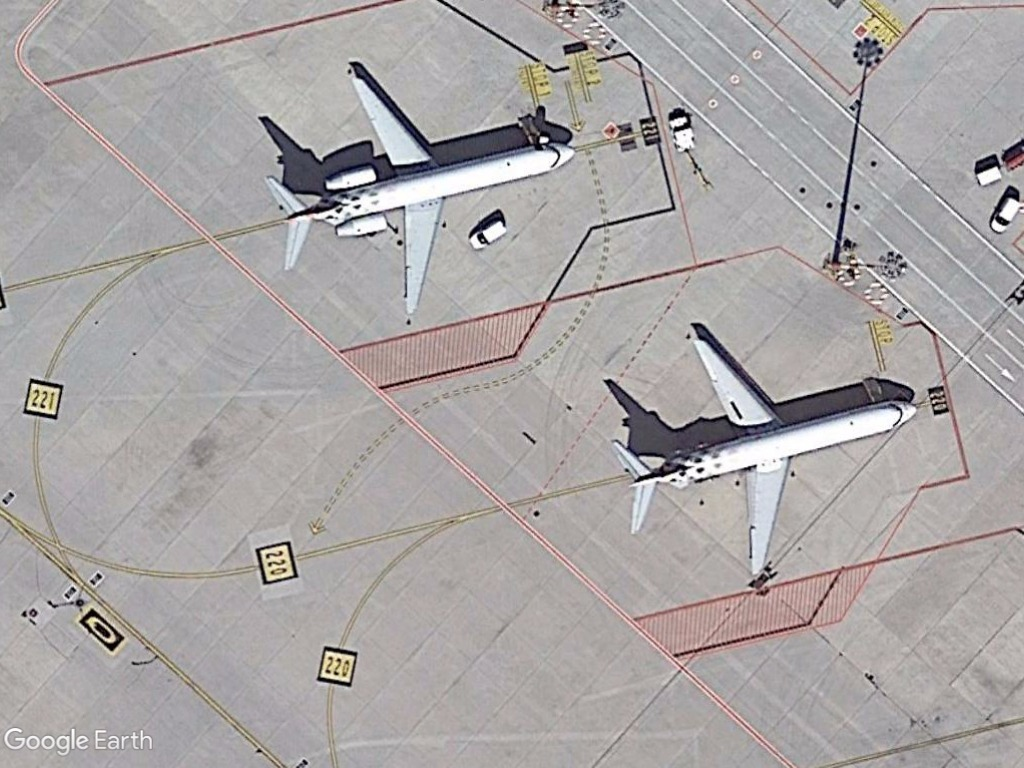airliner: (602, 328, 924, 583)
chartered: (258, 67, 580, 323)
other: (664, 109, 699, 157)
van: (984, 188, 1024, 240), (464, 216, 512, 254)
